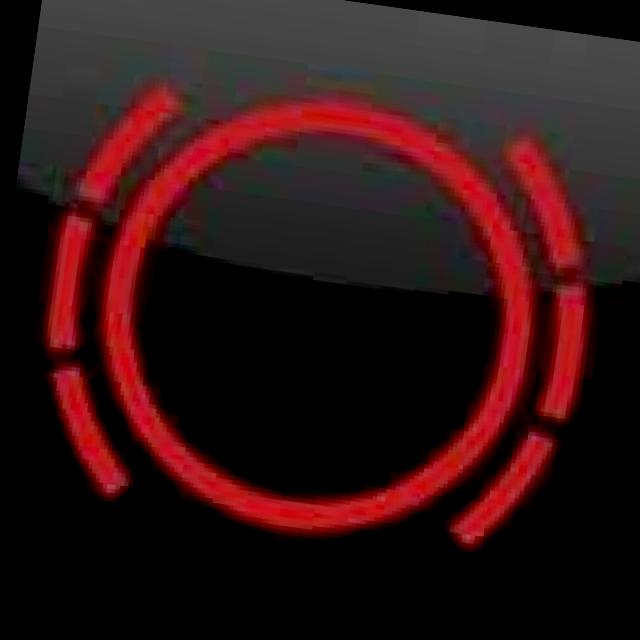kontrolka: (0, 50, 633, 610)
